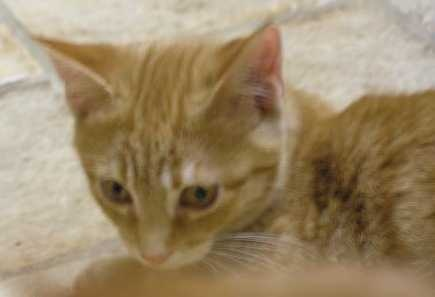Cat: (37, 25, 300, 267)
